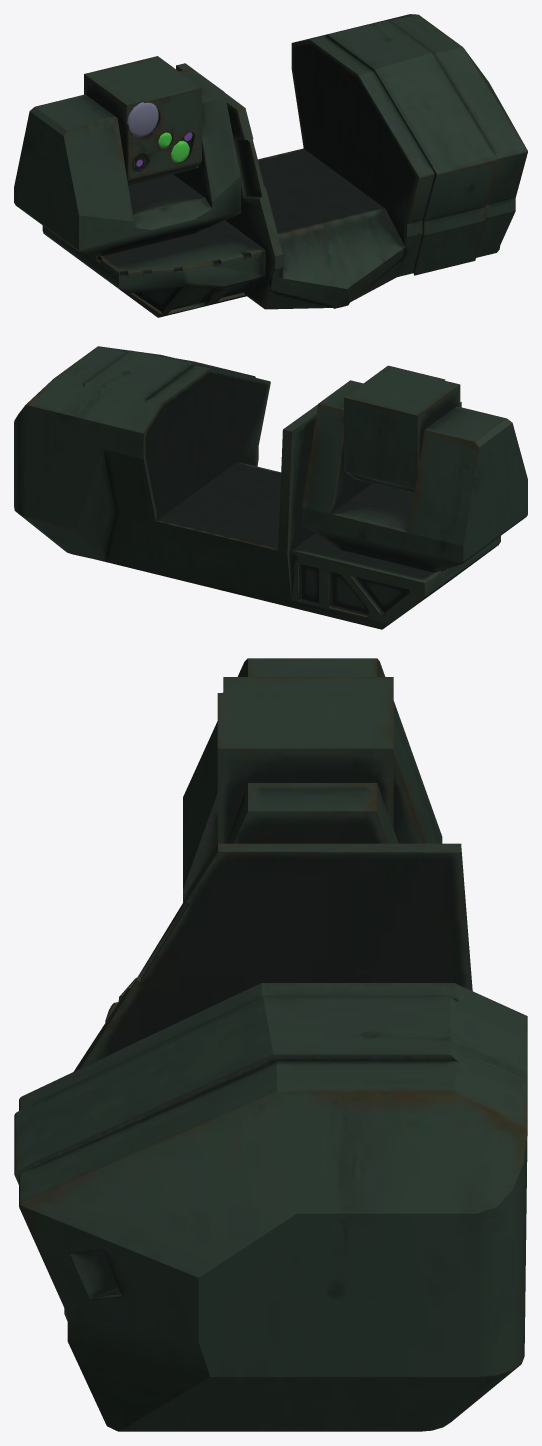
The model's file is flak_head.glb.
The picture shows the model from 3 angles, top to bottom: view 1: azimuth 30°, elevation 25°; view 2: azimuth 150°, elevation 25°; view 3: azimuth 270°, elevation 25°; orthographic projection. The views are drawn at different scales.
Visible parts, largest first — view 1: Sensor_Frame_Upper_Body_0; view 2: Sensor_Frame_Upper_Body_0; view 3: Sensor_Frame_Upper_Body_0.
Part boxes in pixels (bbox=[...]): Sensor_Frame_Upper_Body_0: bbox=[14, 14, 527, 317]; Sensor_Frame_Upper_Body_0: bbox=[14, 346, 527, 629]; Sensor_Frame_Upper_Body_0: bbox=[14, 658, 527, 1431].
Size of the model in its own units: 2.37 by 1.12 by 1.2.
1 material, 1 textured.
